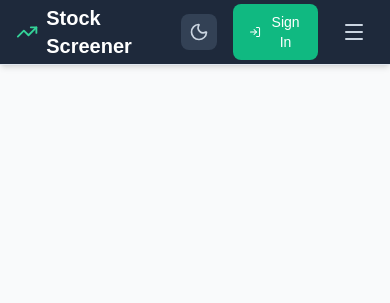
Header › Mobile navigation › should show all navigation links in mobile menu
Click the button named "open menu".
click(354, 32)  # box [334,12,374,52]
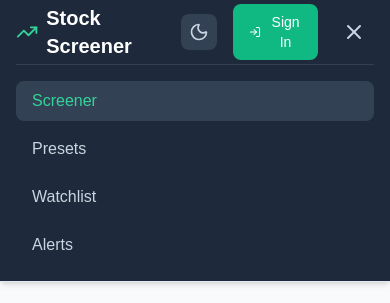
Now the navigation bar named "mobile" shows "Screener", box [16,81,374,121]
Now the navigation bar named "mobile" shows "Presets", box [16,129,374,169]
Now the navigation bar named "mobile" shows "Watchlist", box [16,177,374,217]
